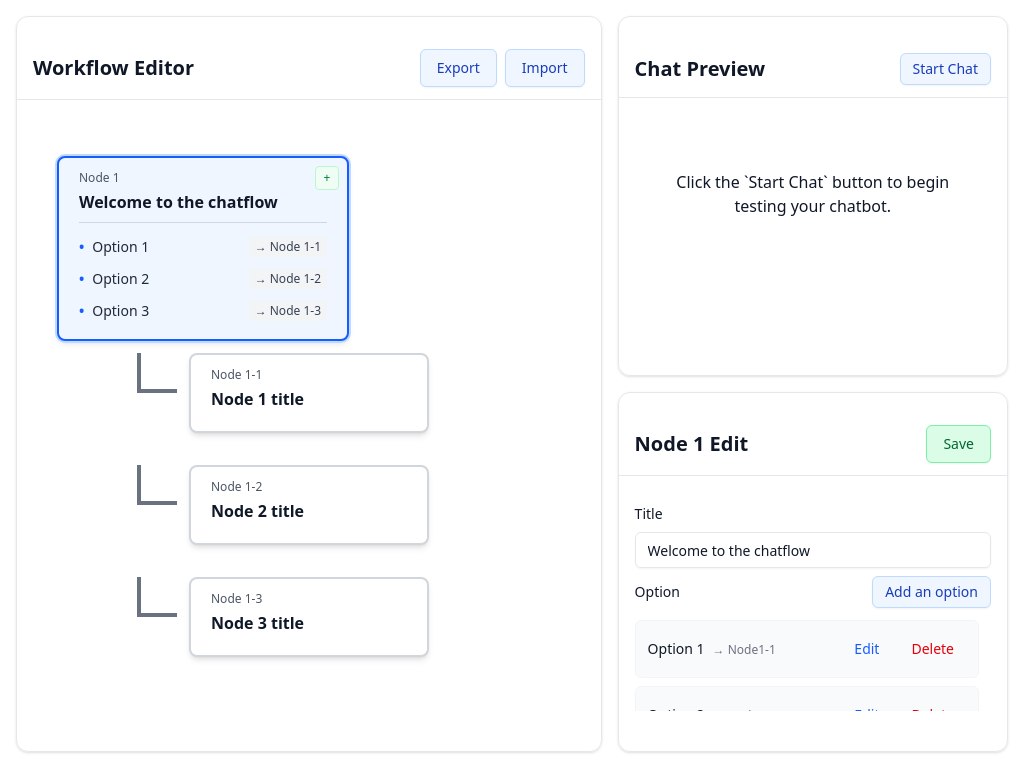
Test: ChatbotEditor - Dialog Operations › can cancel node creation
Click the + button on the root node
Click the button titled "Add child node".
click(327, 178)  # box [315,166,339,190]
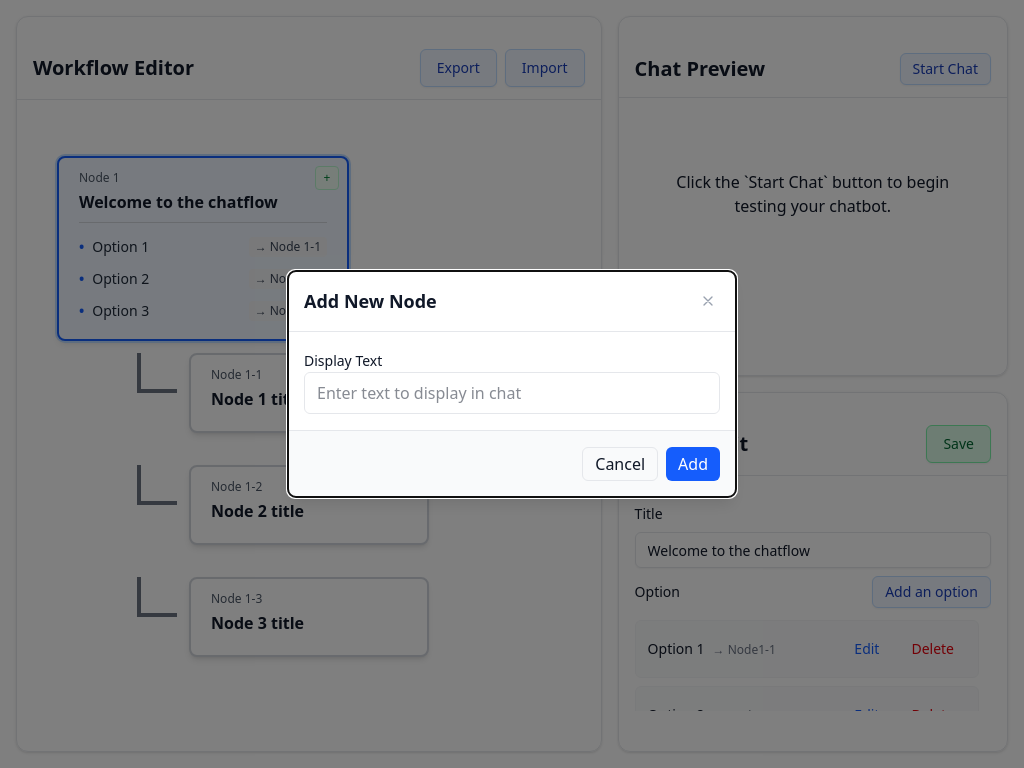
Click Cancel button
Click the button "Cancel".
click(620, 464)  # box [582,447,658,481]
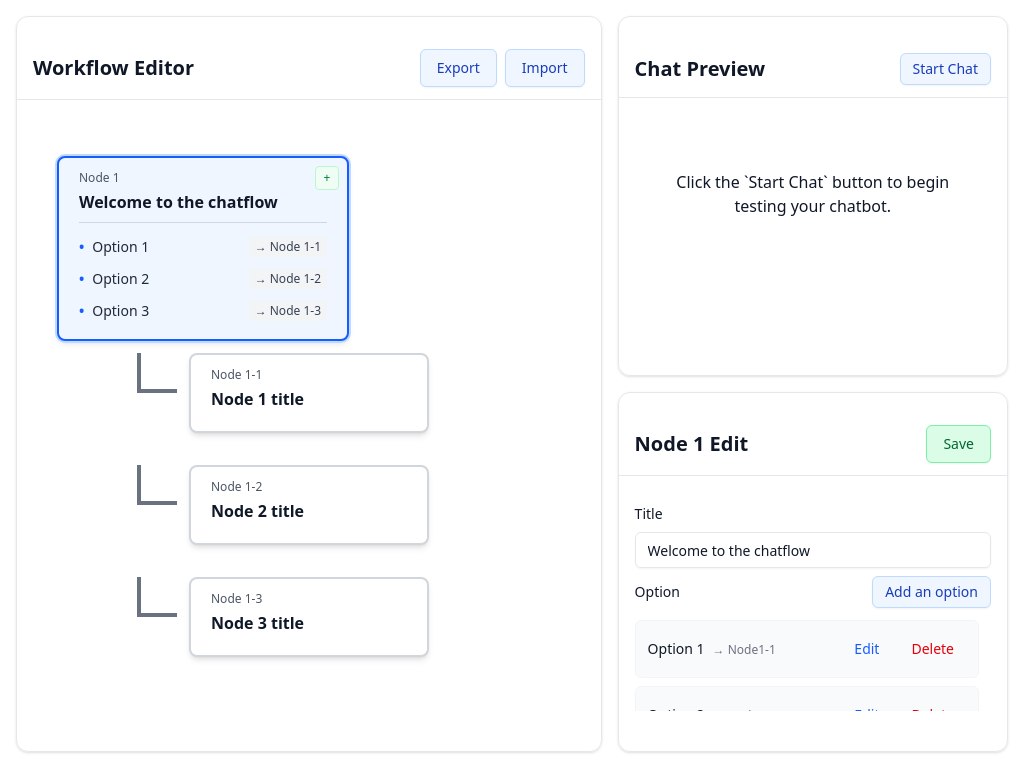
Expected: the heading "Add New Node" is gone
